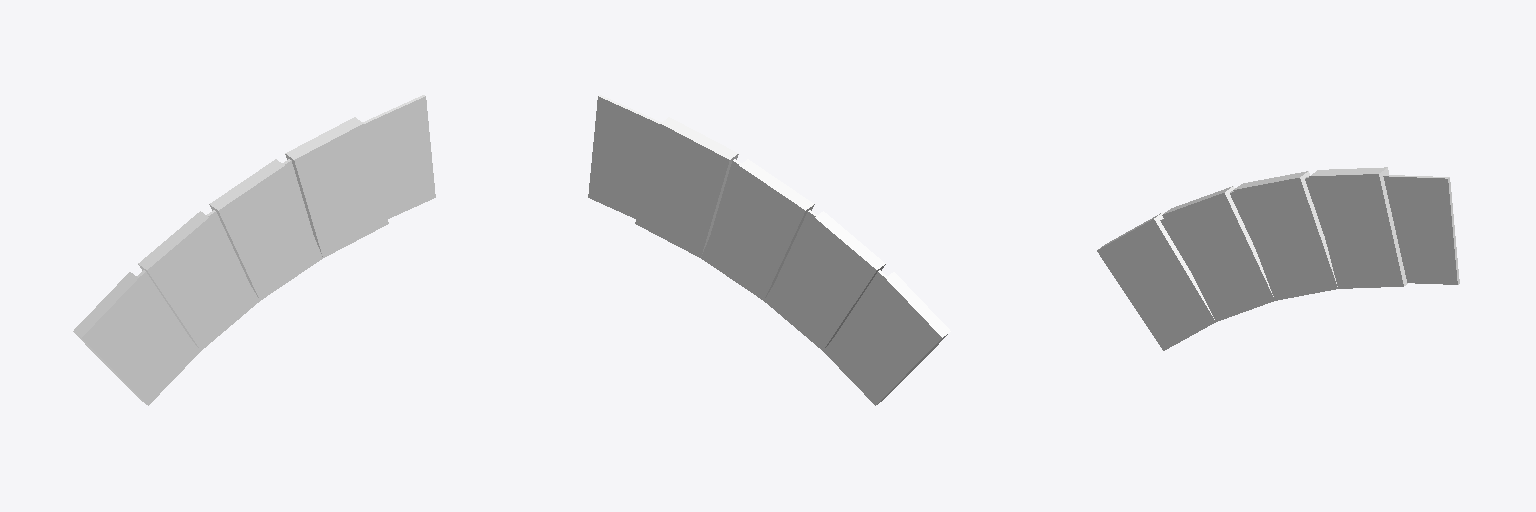
File: generic_facade_segmental_arch_3_left.obj
3 renders of one model, left to right at view 1: azimuth 30°, elevation 25°; view 2: azimuth 150°, elevation 25°; view 3: azimuth 330°, elevation 25°, orthographic.
Parts seen in each view (by area): view 1: arch_3_left, arch_3_left_inner; view 2: arch_3_left, arch_3_left_inner; view 3: arch_3_left, arch_3_left_inner.
Boxes of the visible parts, box(x1,y1,x2,y2) form: arch_3_left: box(73, 117, 388, 405); arch_3_left_inner: box(137, 95, 435, 339); arch_3_left: box(635, 117, 950, 405); arch_3_left_inner: box(588, 95, 886, 339); arch_3_left: box(1097, 167, 1407, 350); arch_3_left_inner: box(1160, 175, 1459, 284).
Bounding box in the file's own units: 1.58 × 1.01 × 0.0688.